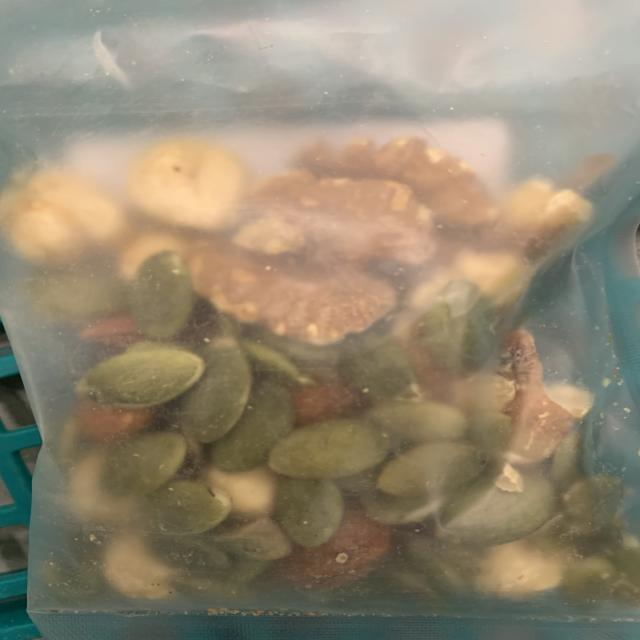object_name: (6, 1, 639, 640)
